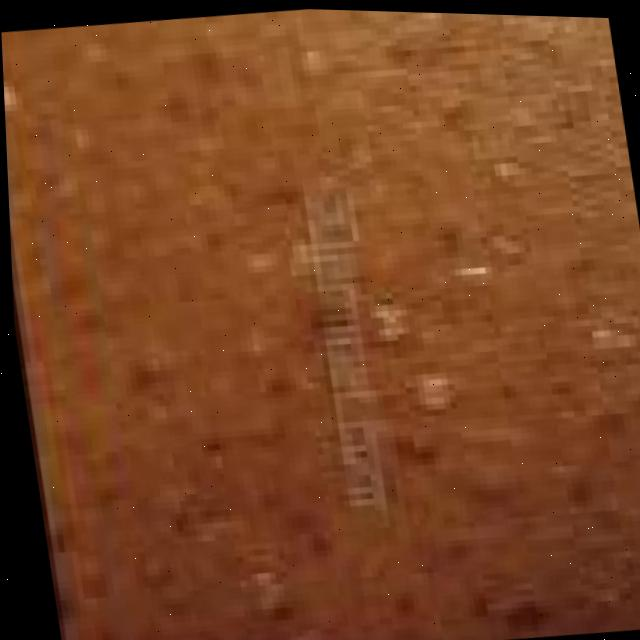Melasma: (4, 10, 640, 640)
